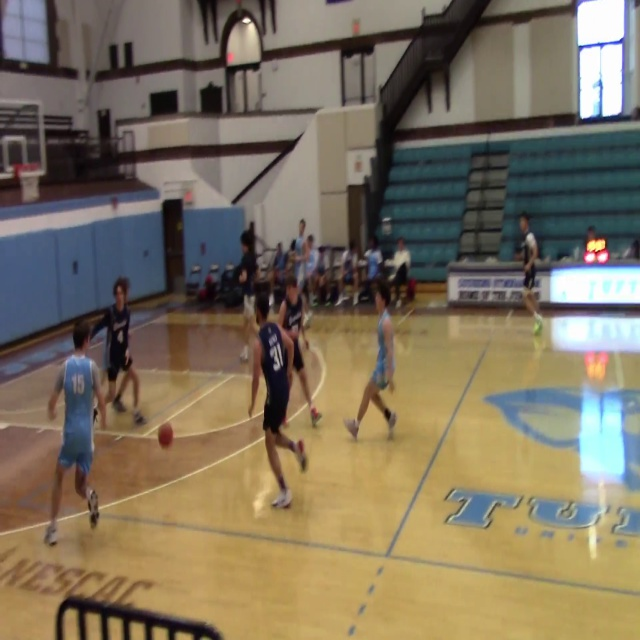Basketball: (157, 422, 173, 448)
